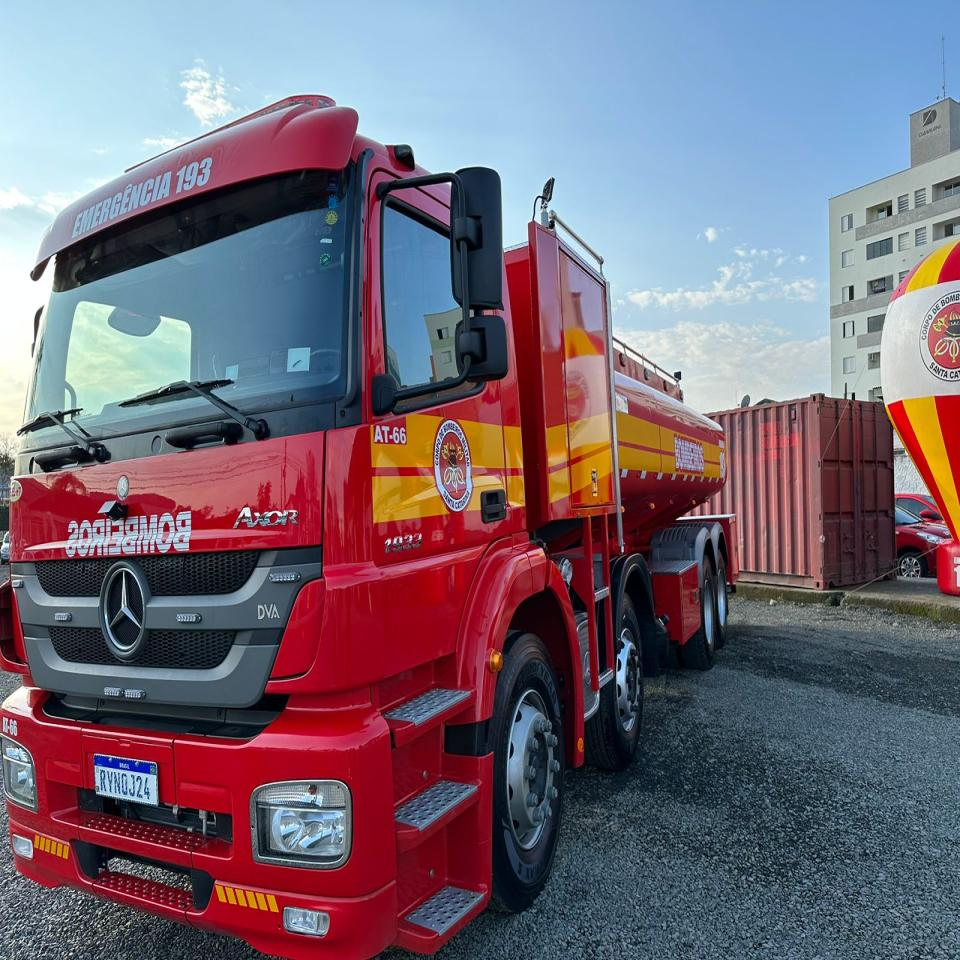viatura: (0, 89, 745, 953)
